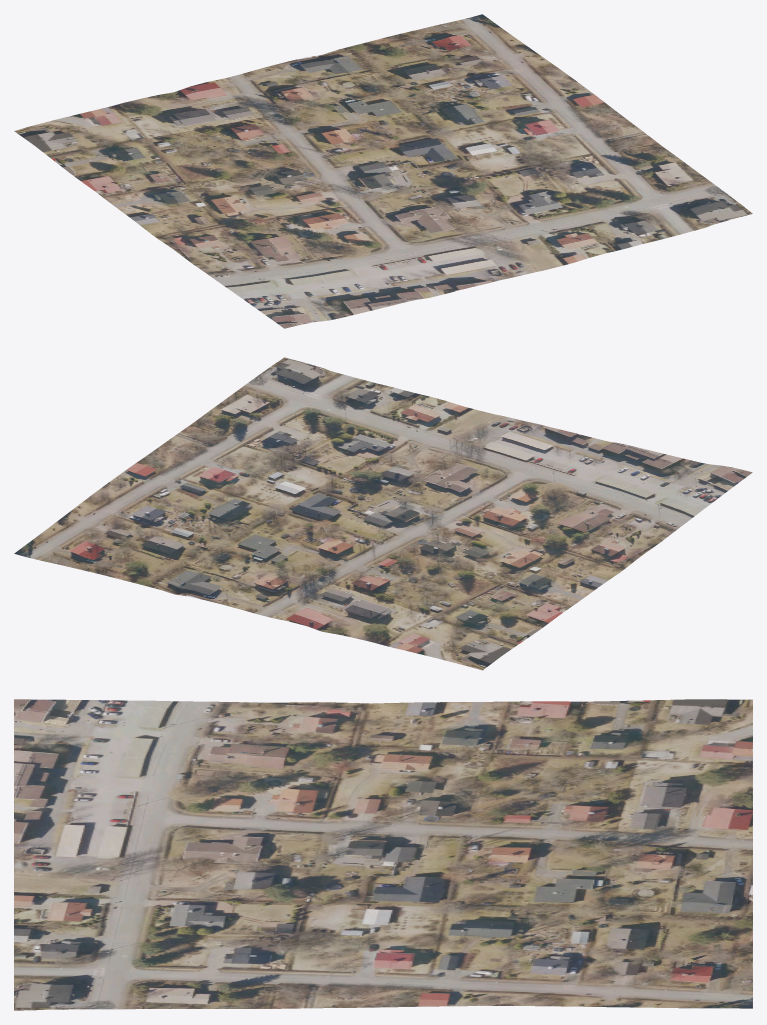
Rendered from CM_Terrain_24492097_6818156.fbx.
The picture shows the model from 3 angles, top to bottom: view 1: azimuth 30°, elevation 25°; view 2: azimuth 150°, elevation 25°; view 3: azimuth 270°, elevation 25°; orthographic projection. The views are drawn at different scales.
Visible parts, largest first — view 1: CM_Terrain_24492097_6818156_LOD0; view 2: CM_Terrain_24492097_6818156_LOD0; view 3: CM_Terrain_24492097_6818156_LOD0.
Part boxes in pixels (left/top/right/bottom): CM_Terrain_24492097_6818156_LOD0: left=14, top=14, right=752, bottom=328; CM_Terrain_24492097_6818156_LOD0: left=14, top=357, right=752, bottom=670; CM_Terrain_24492097_6818156_LOD0: left=14, top=699, right=752, bottom=1010.
Size of what is drawn, in the model's own units: 205 by 3.84 by 205.
